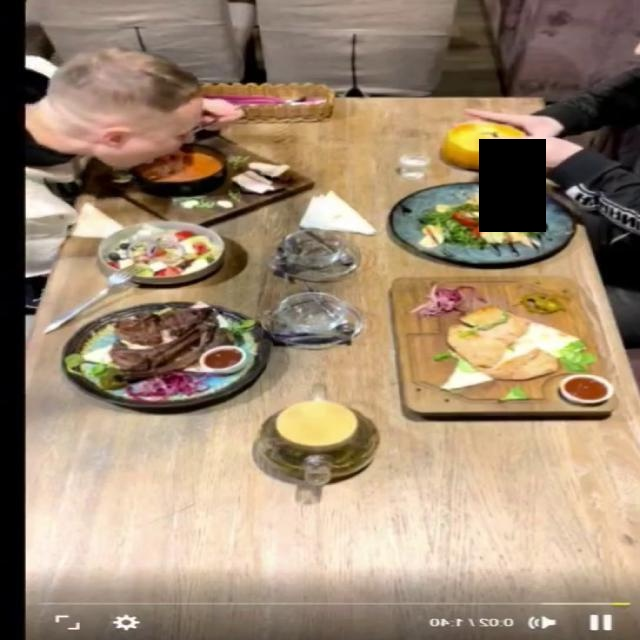meat: (394, 279, 619, 408), (60, 300, 273, 408)
salad: (392, 182, 580, 265), (97, 220, 226, 285)
soup: (85, 135, 316, 226), (440, 121, 527, 170)
tea: (238, 369, 398, 505)
